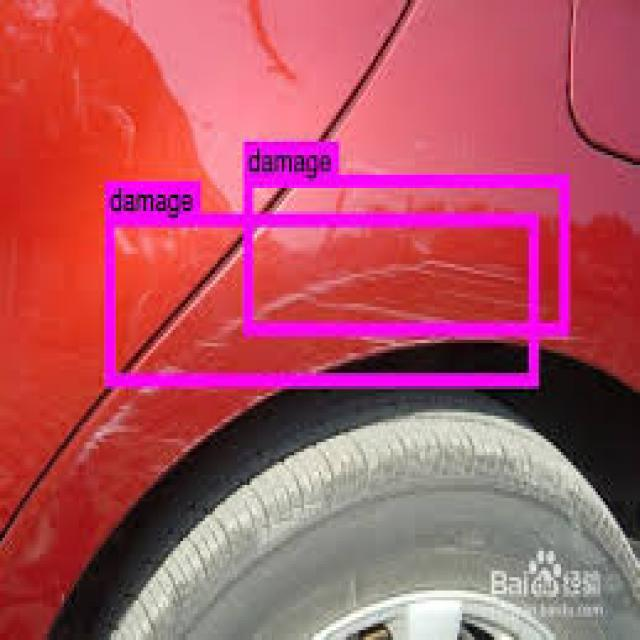dent-or-scratch: (53, 259, 571, 412)
